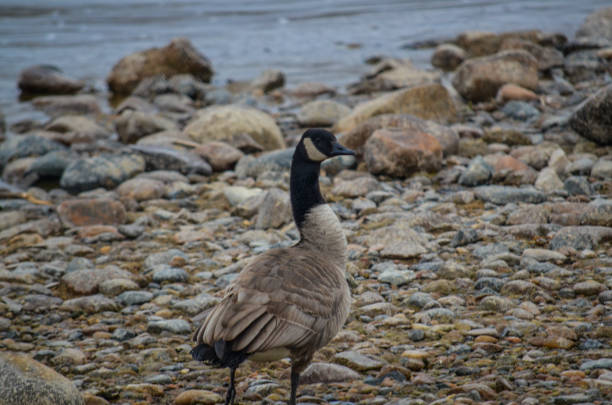goose: (182, 126, 361, 405)
